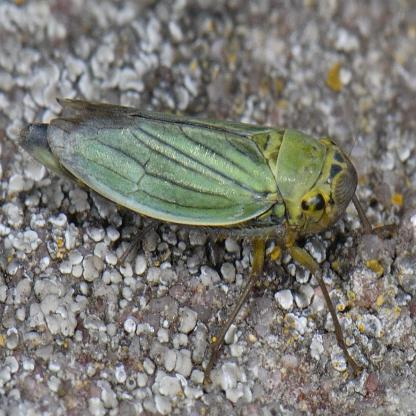Green-Leafhopper: (13, 92, 397, 378)
